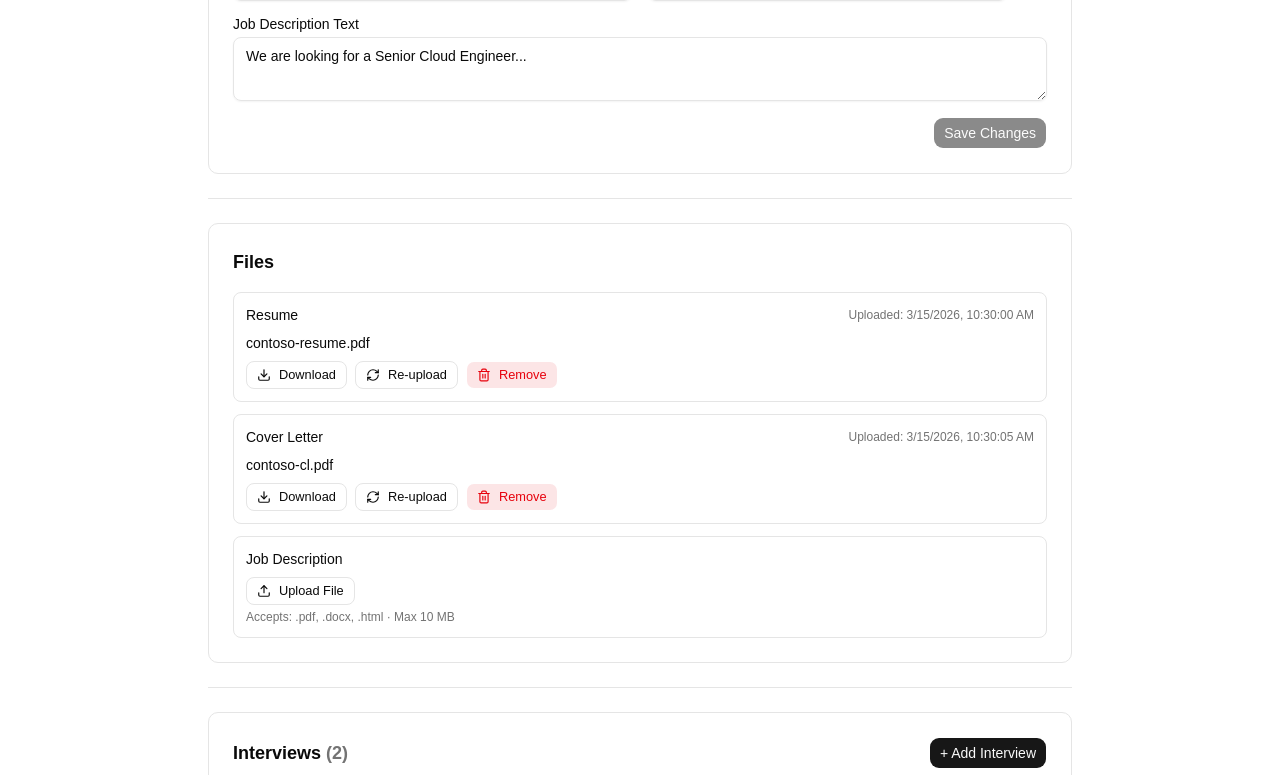
Test case: ApplicationDetailPage › shows delete confirmation dialog when clicking Remove
This screenshot has width=1280, height=775.
(page scrolled)
# Click first Remove button (resume)
Click the 1st button "Remove".
click(512, 375)  # box [466, 361, 558, 389]
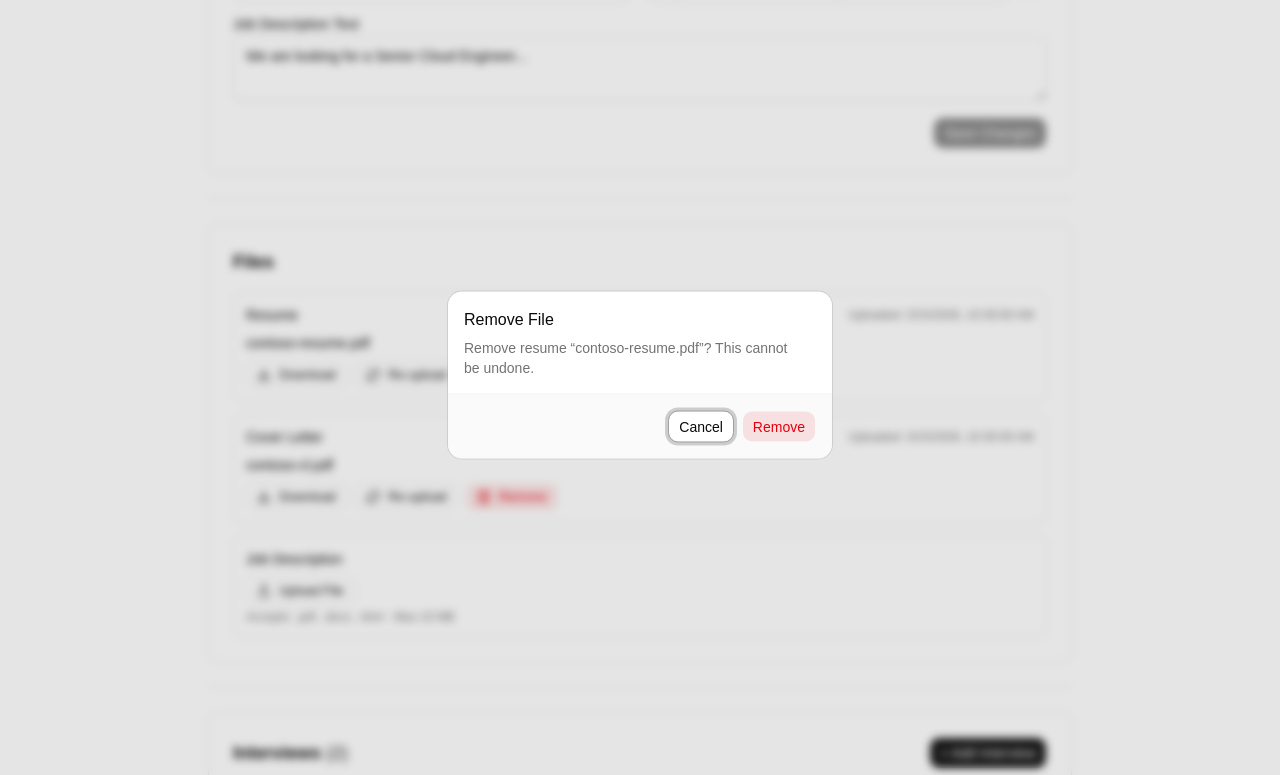
Now the heading "Remove File" is shown, box [464, 308, 554, 332]
Now the text "Remove resume “contoso-resume.pdf”? This cannot be undone." is shown, box [464, 338, 816, 378]
# Cancel should close the dialog
Click the button "Cancel".
click(701, 426)  # box [668, 410, 734, 442]
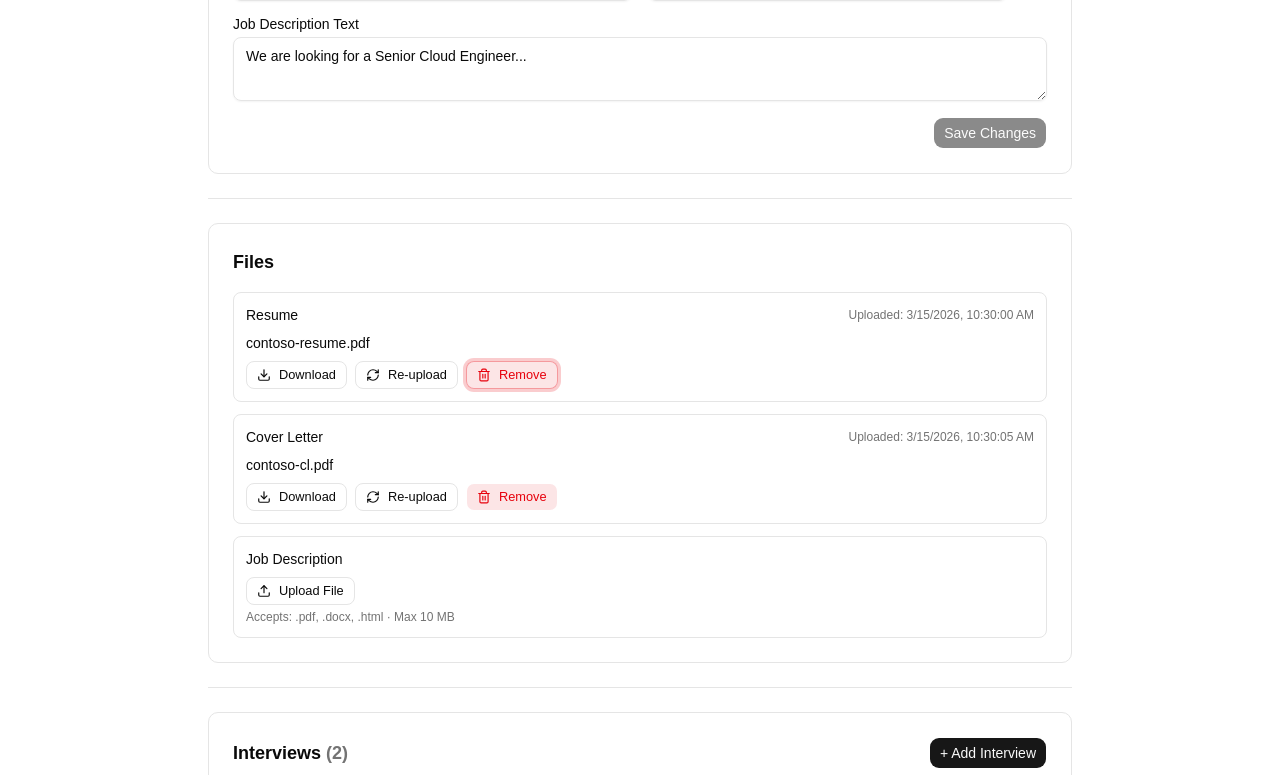
Now the text "cannot be undone" is gone
